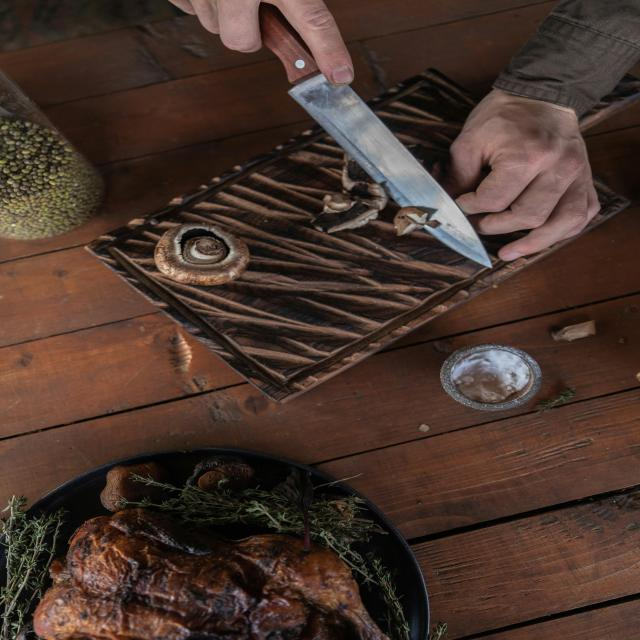knife: (261, 2, 493, 270)
